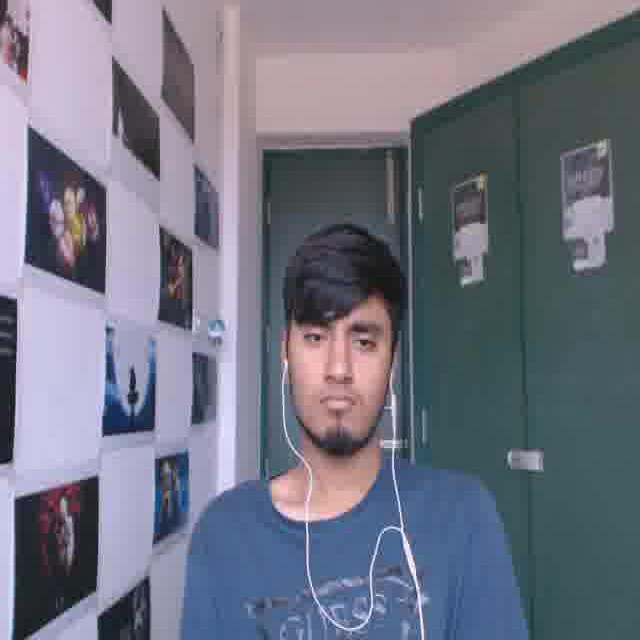Boredom: (289, 279, 386, 441)
